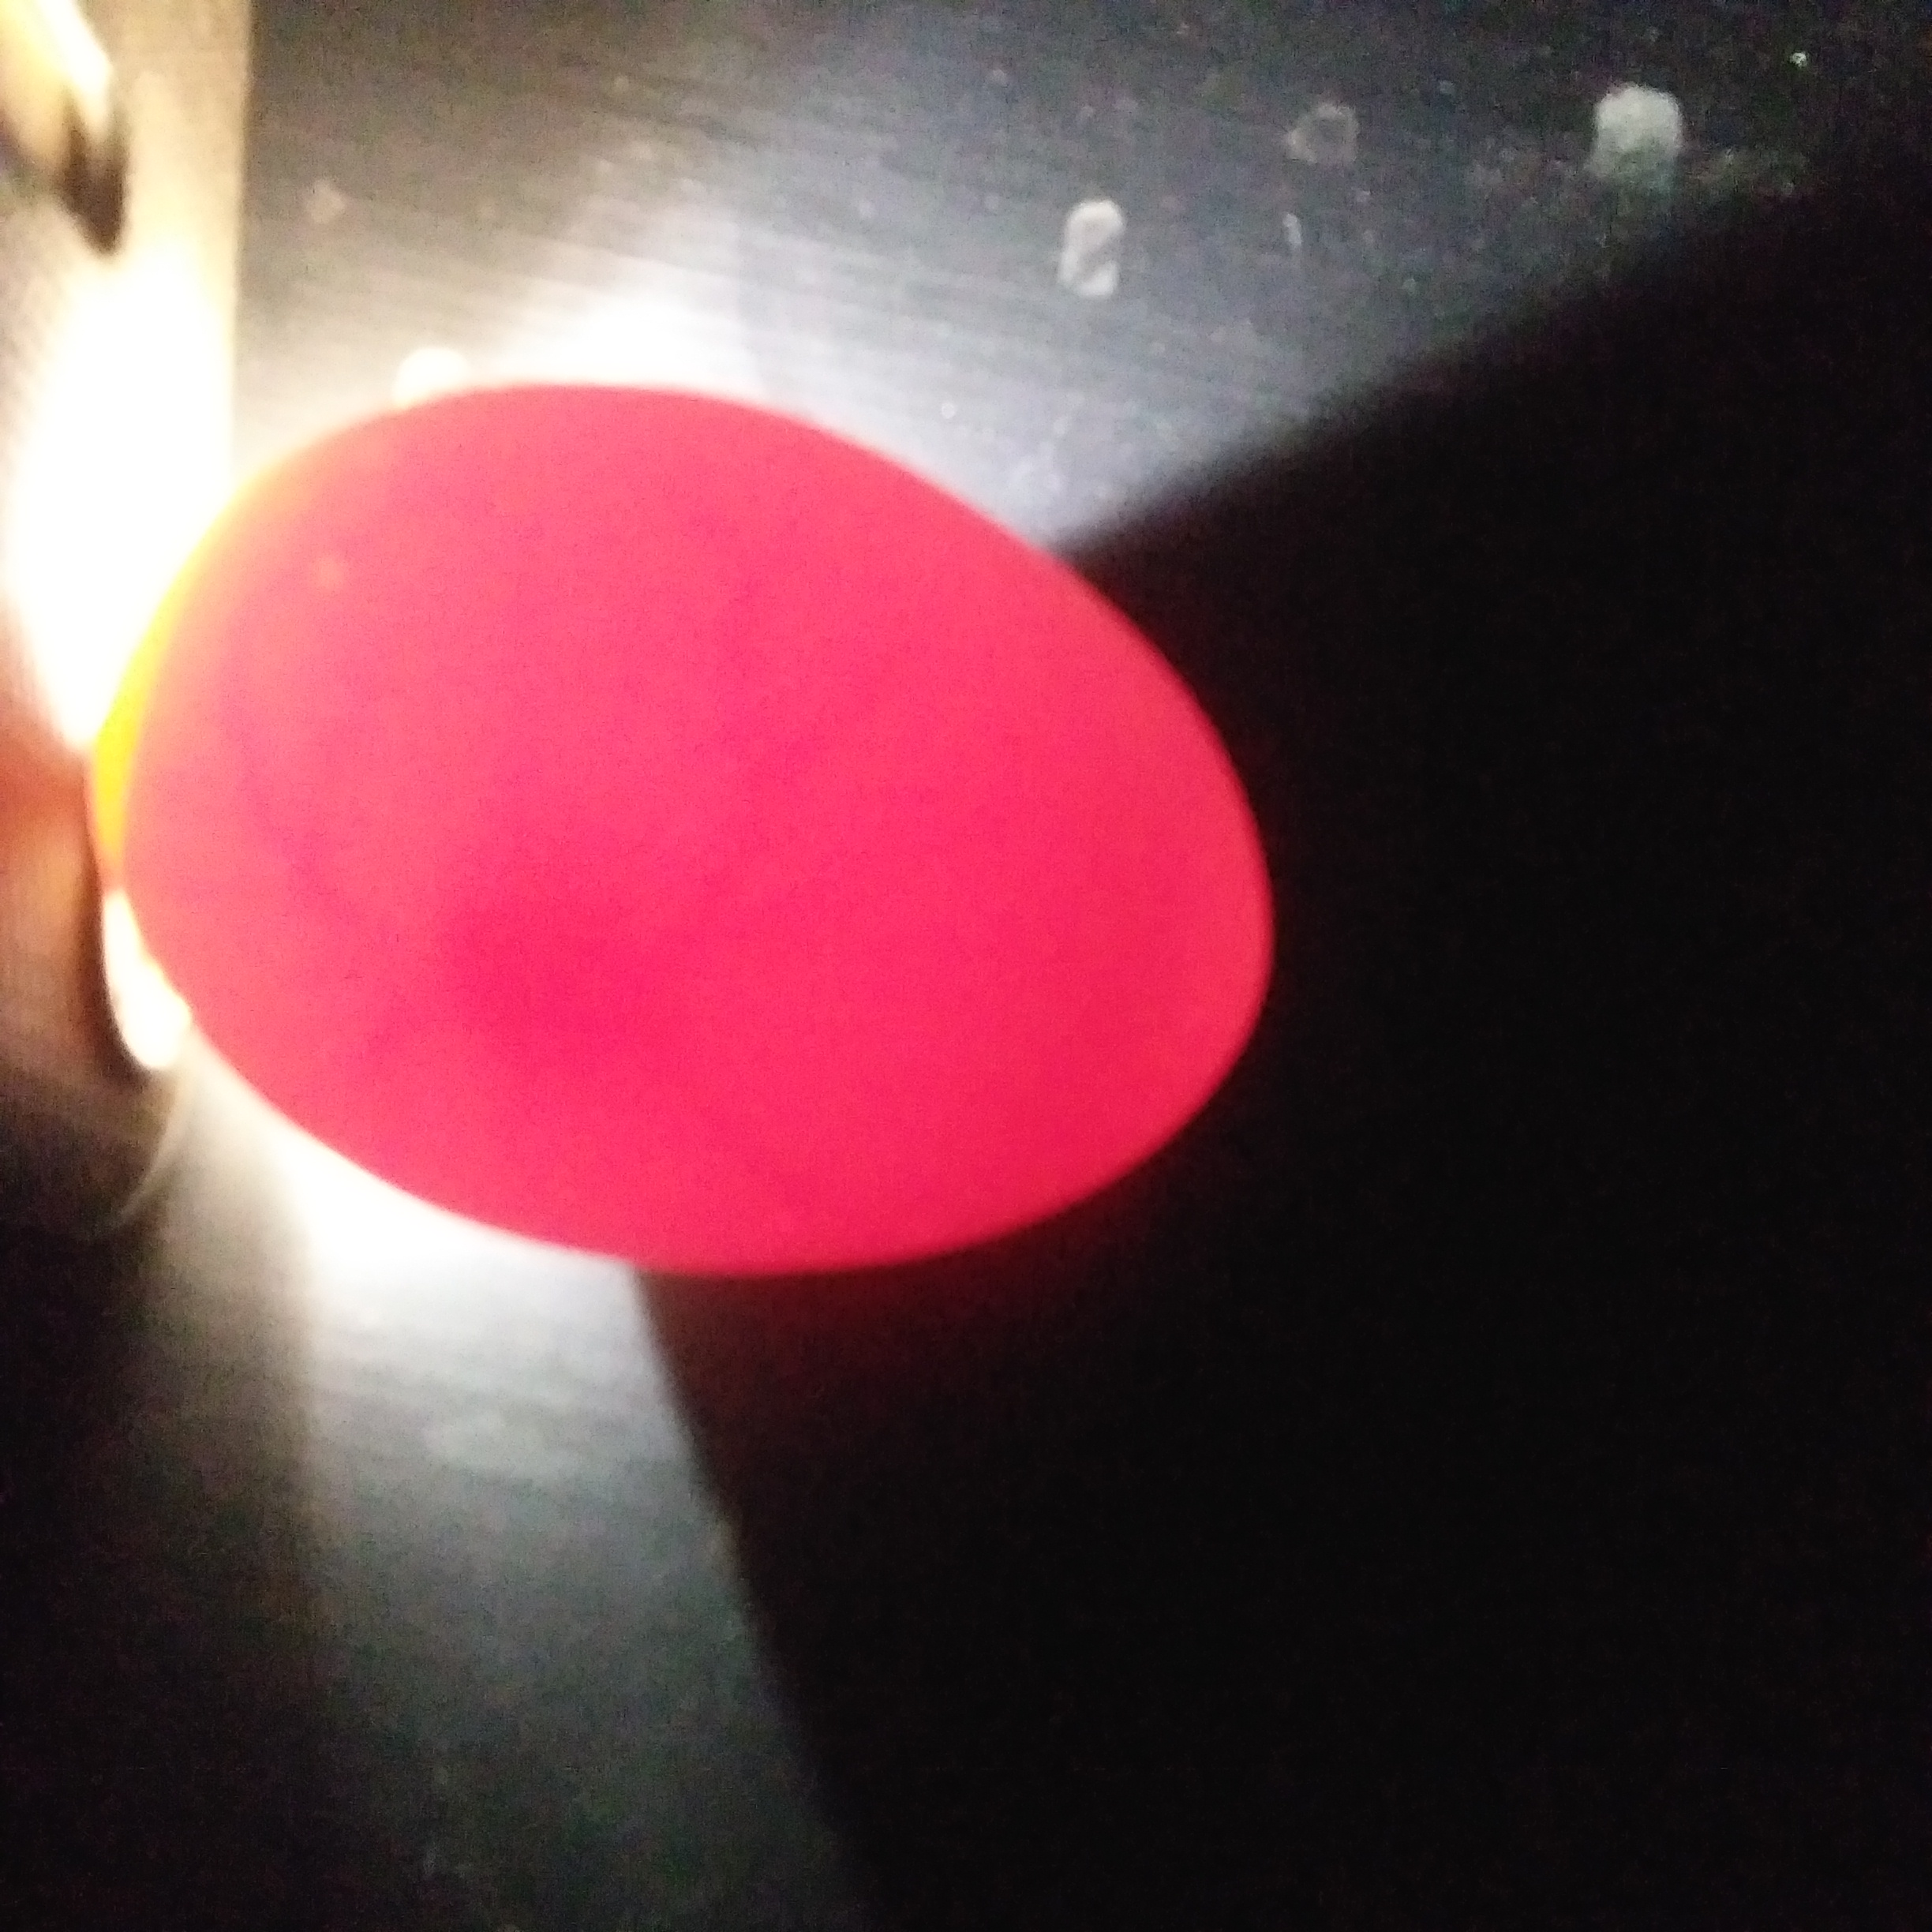bloodcell: (207, 623, 377, 954)
embryo: (426, 878, 577, 1081)
